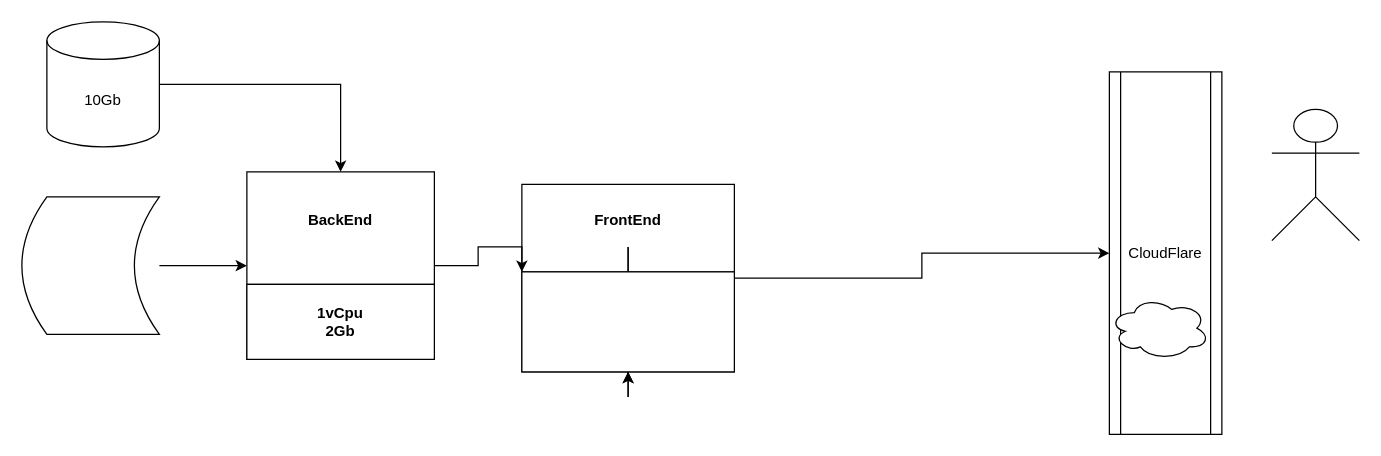
The diagram is 1381 pixels wide and 456 high, and some of its shapes have lost their labels. Here are the shapes that lost their labels. From the top down, the centre of each, then its label:
At pixel 1315 174: "Actor".
At pixel 90 265: "MediaConvert Video Comprimido".
At pixel 627 321: "0,5MvCpu 500Mib".
